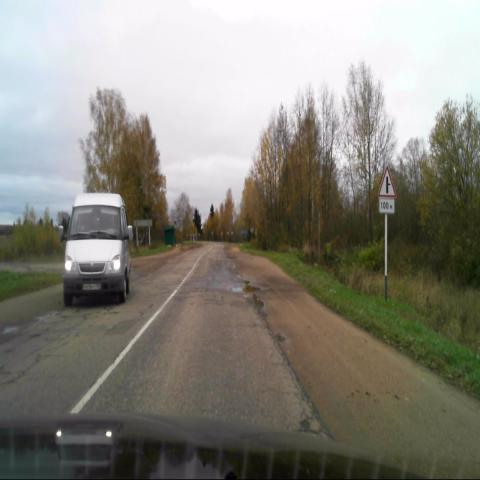2_3_2: (377, 166, 396, 198)
8_1_1: (379, 198, 395, 212)
